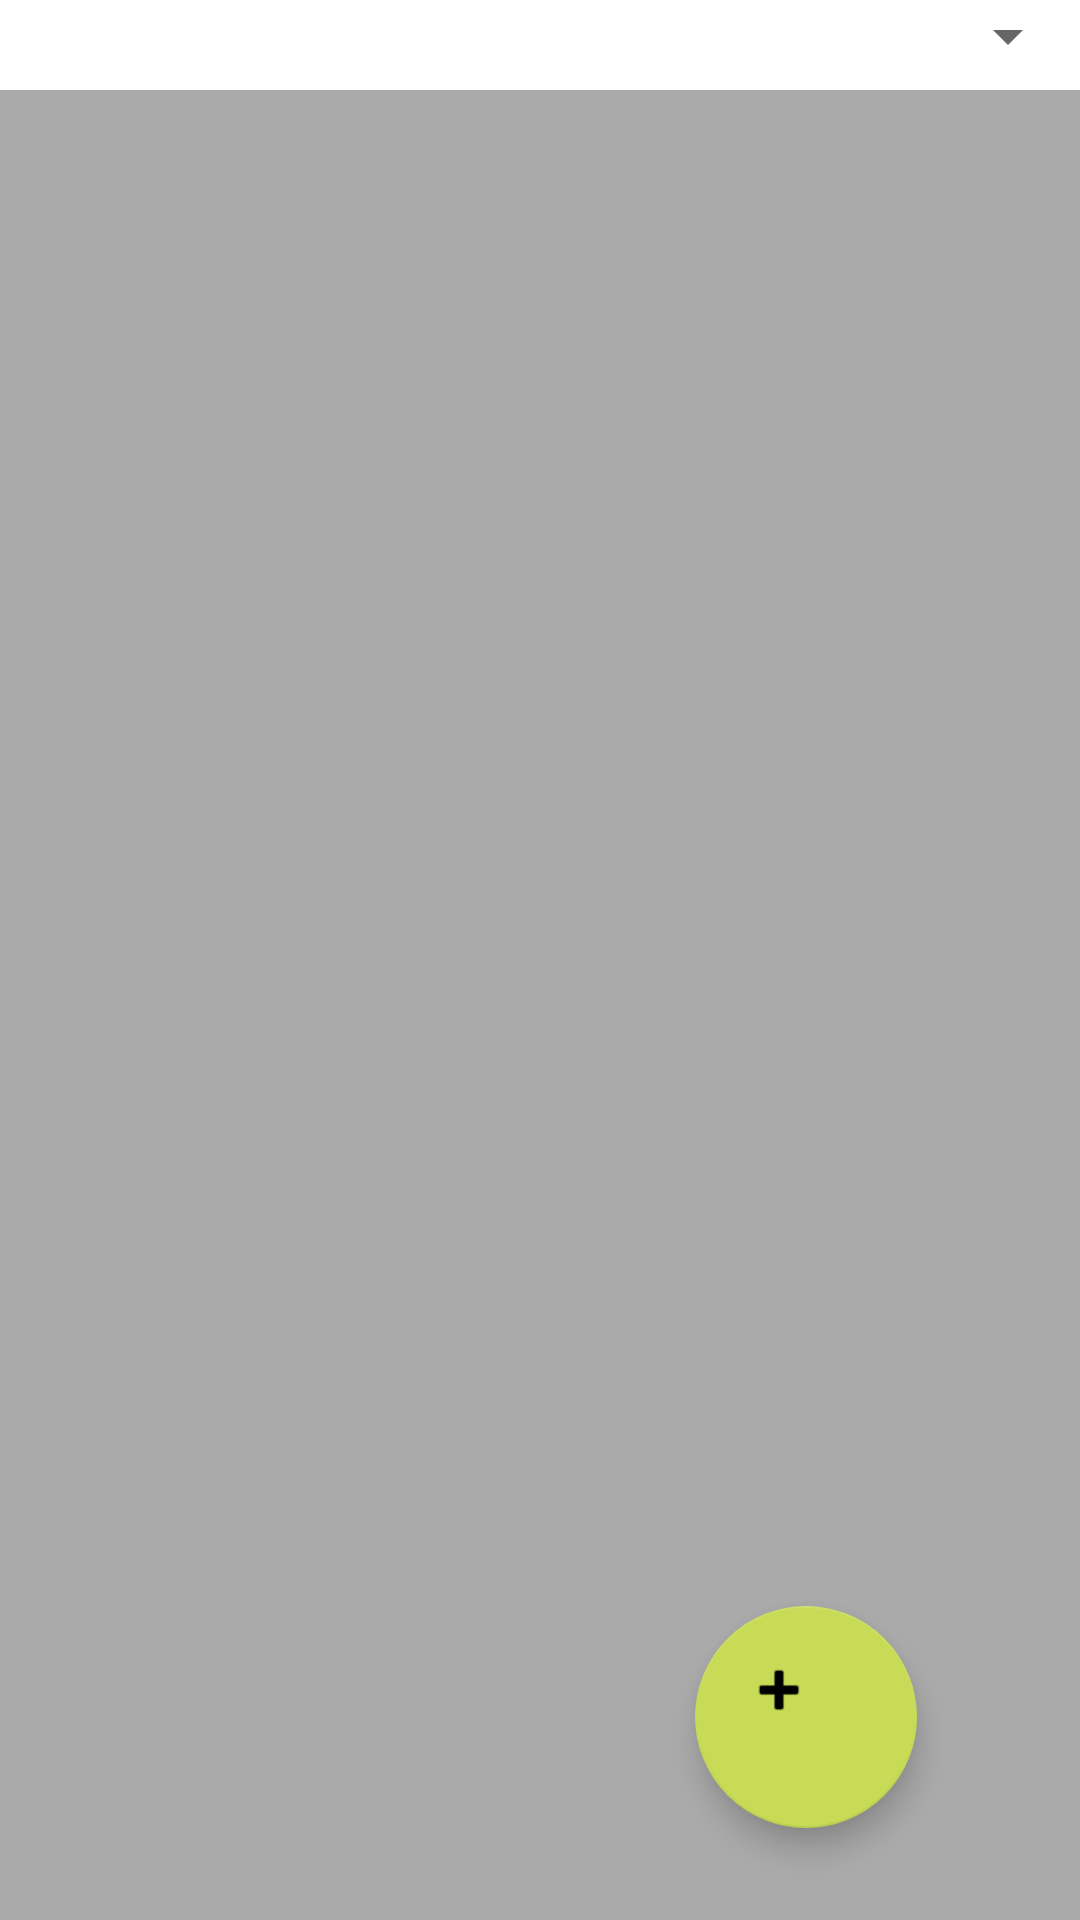

Icons on this 1080w x 1920h Android screen, each with the point to tap as point (x, y):
add: point (806, 1717)
